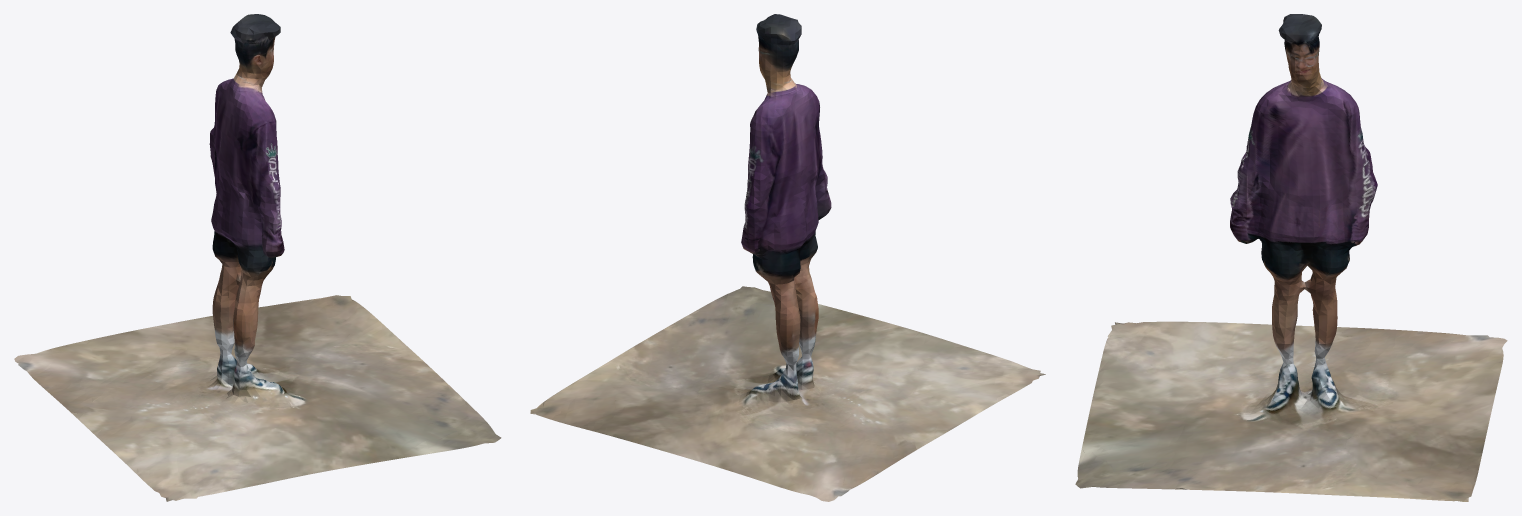
3 views of the same model, side by side, from view 1: azimuth 30°, elevation 25°; view 2: azimuth 150°, elevation 25°; view 3: azimuth 270°, elevation 25° (orthographic). The views are drawn at different scales.
Bounding box in the file's own units: 1.84 × 1.89 × 1.87.
1 material, 1 textured.
